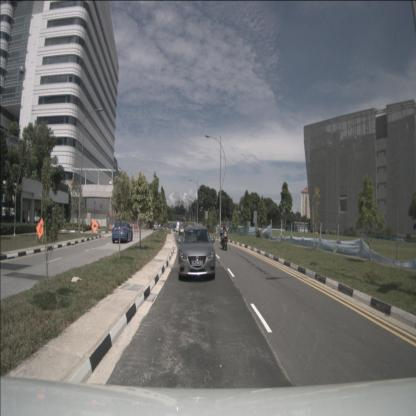vehicle-car: (178, 226, 216, 280), (112, 221, 132, 243), (178, 226, 186, 235), (154, 223, 158, 230)
vehicle-motorcycle: (219, 222, 228, 251)
